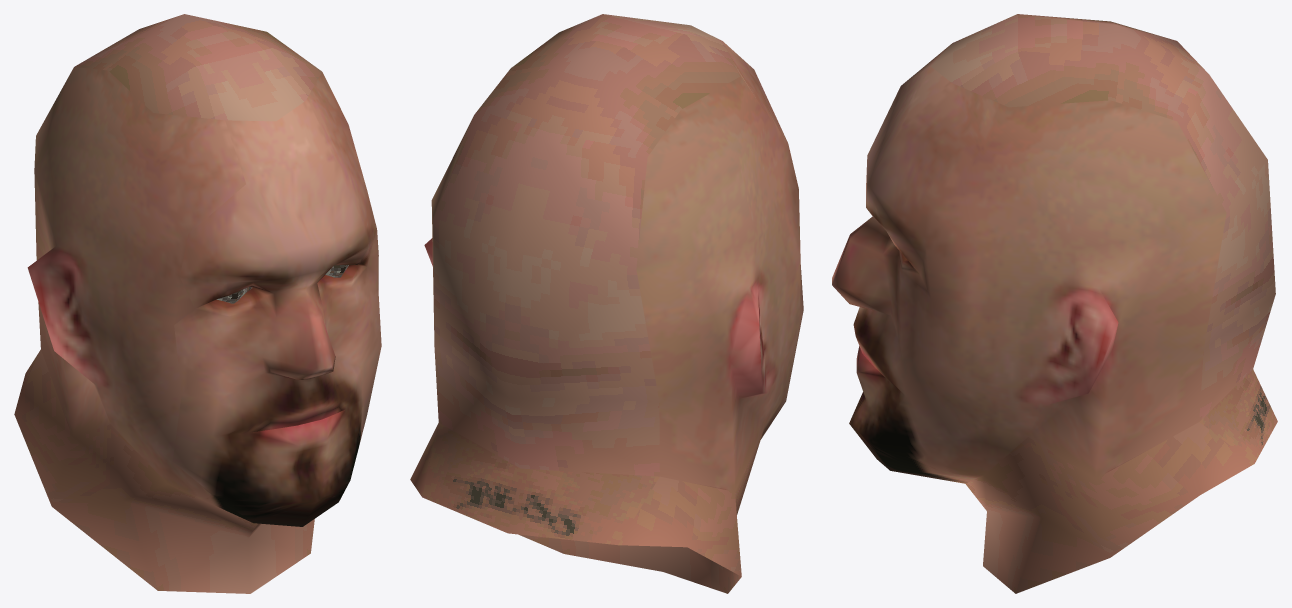
File: Bigshow_H.obj
3 renders of one model, left to right at view 1: azimuth 30°, elevation 25°; view 2: azimuth 150°, elevation 25°; view 3: azimuth 270°, elevation 25°, orthographic. The views are drawn at different scales.
Visible parts, largest first — view 1: Bigshow_H.001; view 2: Bigshow_H.001; view 3: Bigshow_H.001.
Part boxes in pixels (x1,y1,x2,y2): Bigshow_H.001: [14, 14, 381, 593]; Bigshow_H.001: [410, 14, 803, 593]; Bigshow_H.001: [832, 14, 1277, 593].
Bounding box in the file's own units: 2.08 × 3.38 × 2.53.
5 materials, 5 textured.
